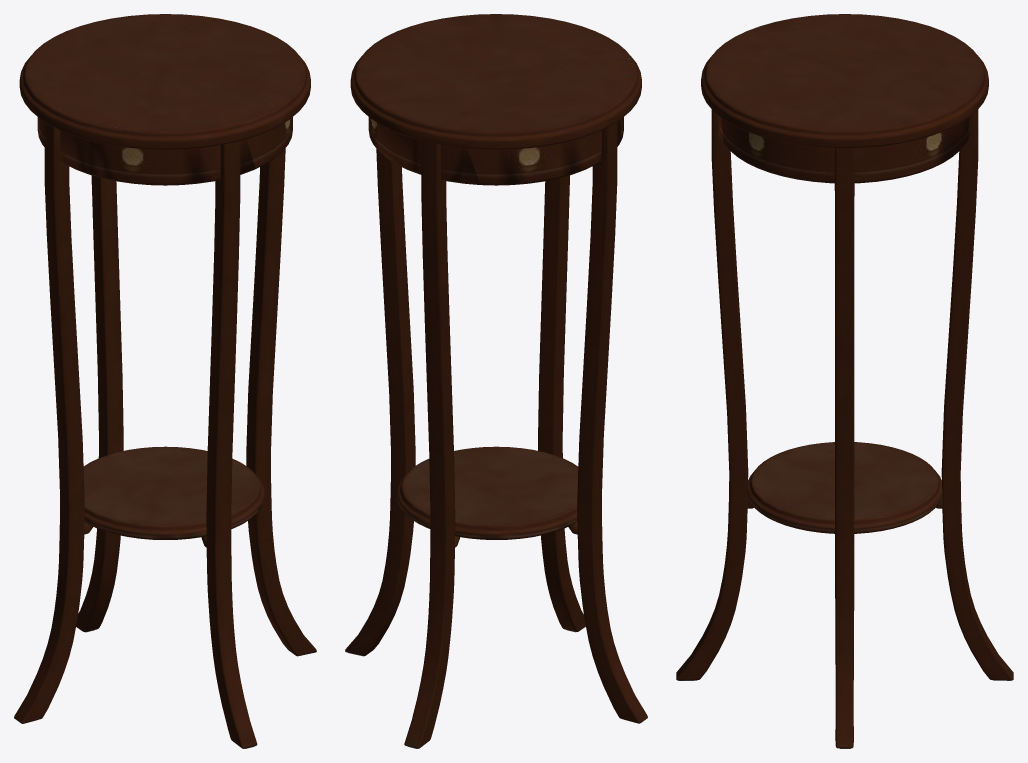
Rendered from sideTable.glb.
3 views of the same model, side by side, from view 1: azimuth 30°, elevation 25°; view 2: azimuth 150°, elevation 25°; view 3: azimuth 270°, elevation 25° (orthographic).
Parts seen in each view (by area): view 1: side_table_tall_01; view 2: side_table_tall_01; view 3: side_table_tall_01.
Part boxes in pixels (x1,y1,x2,y2): side_table_tall_01: [14, 14, 316, 748]; side_table_tall_01: [345, 14, 647, 748]; side_table_tall_01: [676, 14, 1013, 748].
Bounding box in the file's own units: 0.384 × 0.7612 × 0.384.
1 material, 1 textured.
